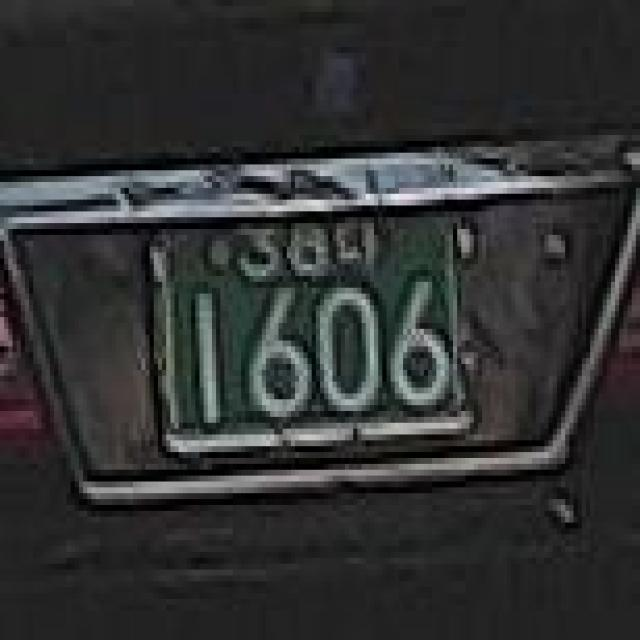illegal_plate: (136, 192, 482, 476)
